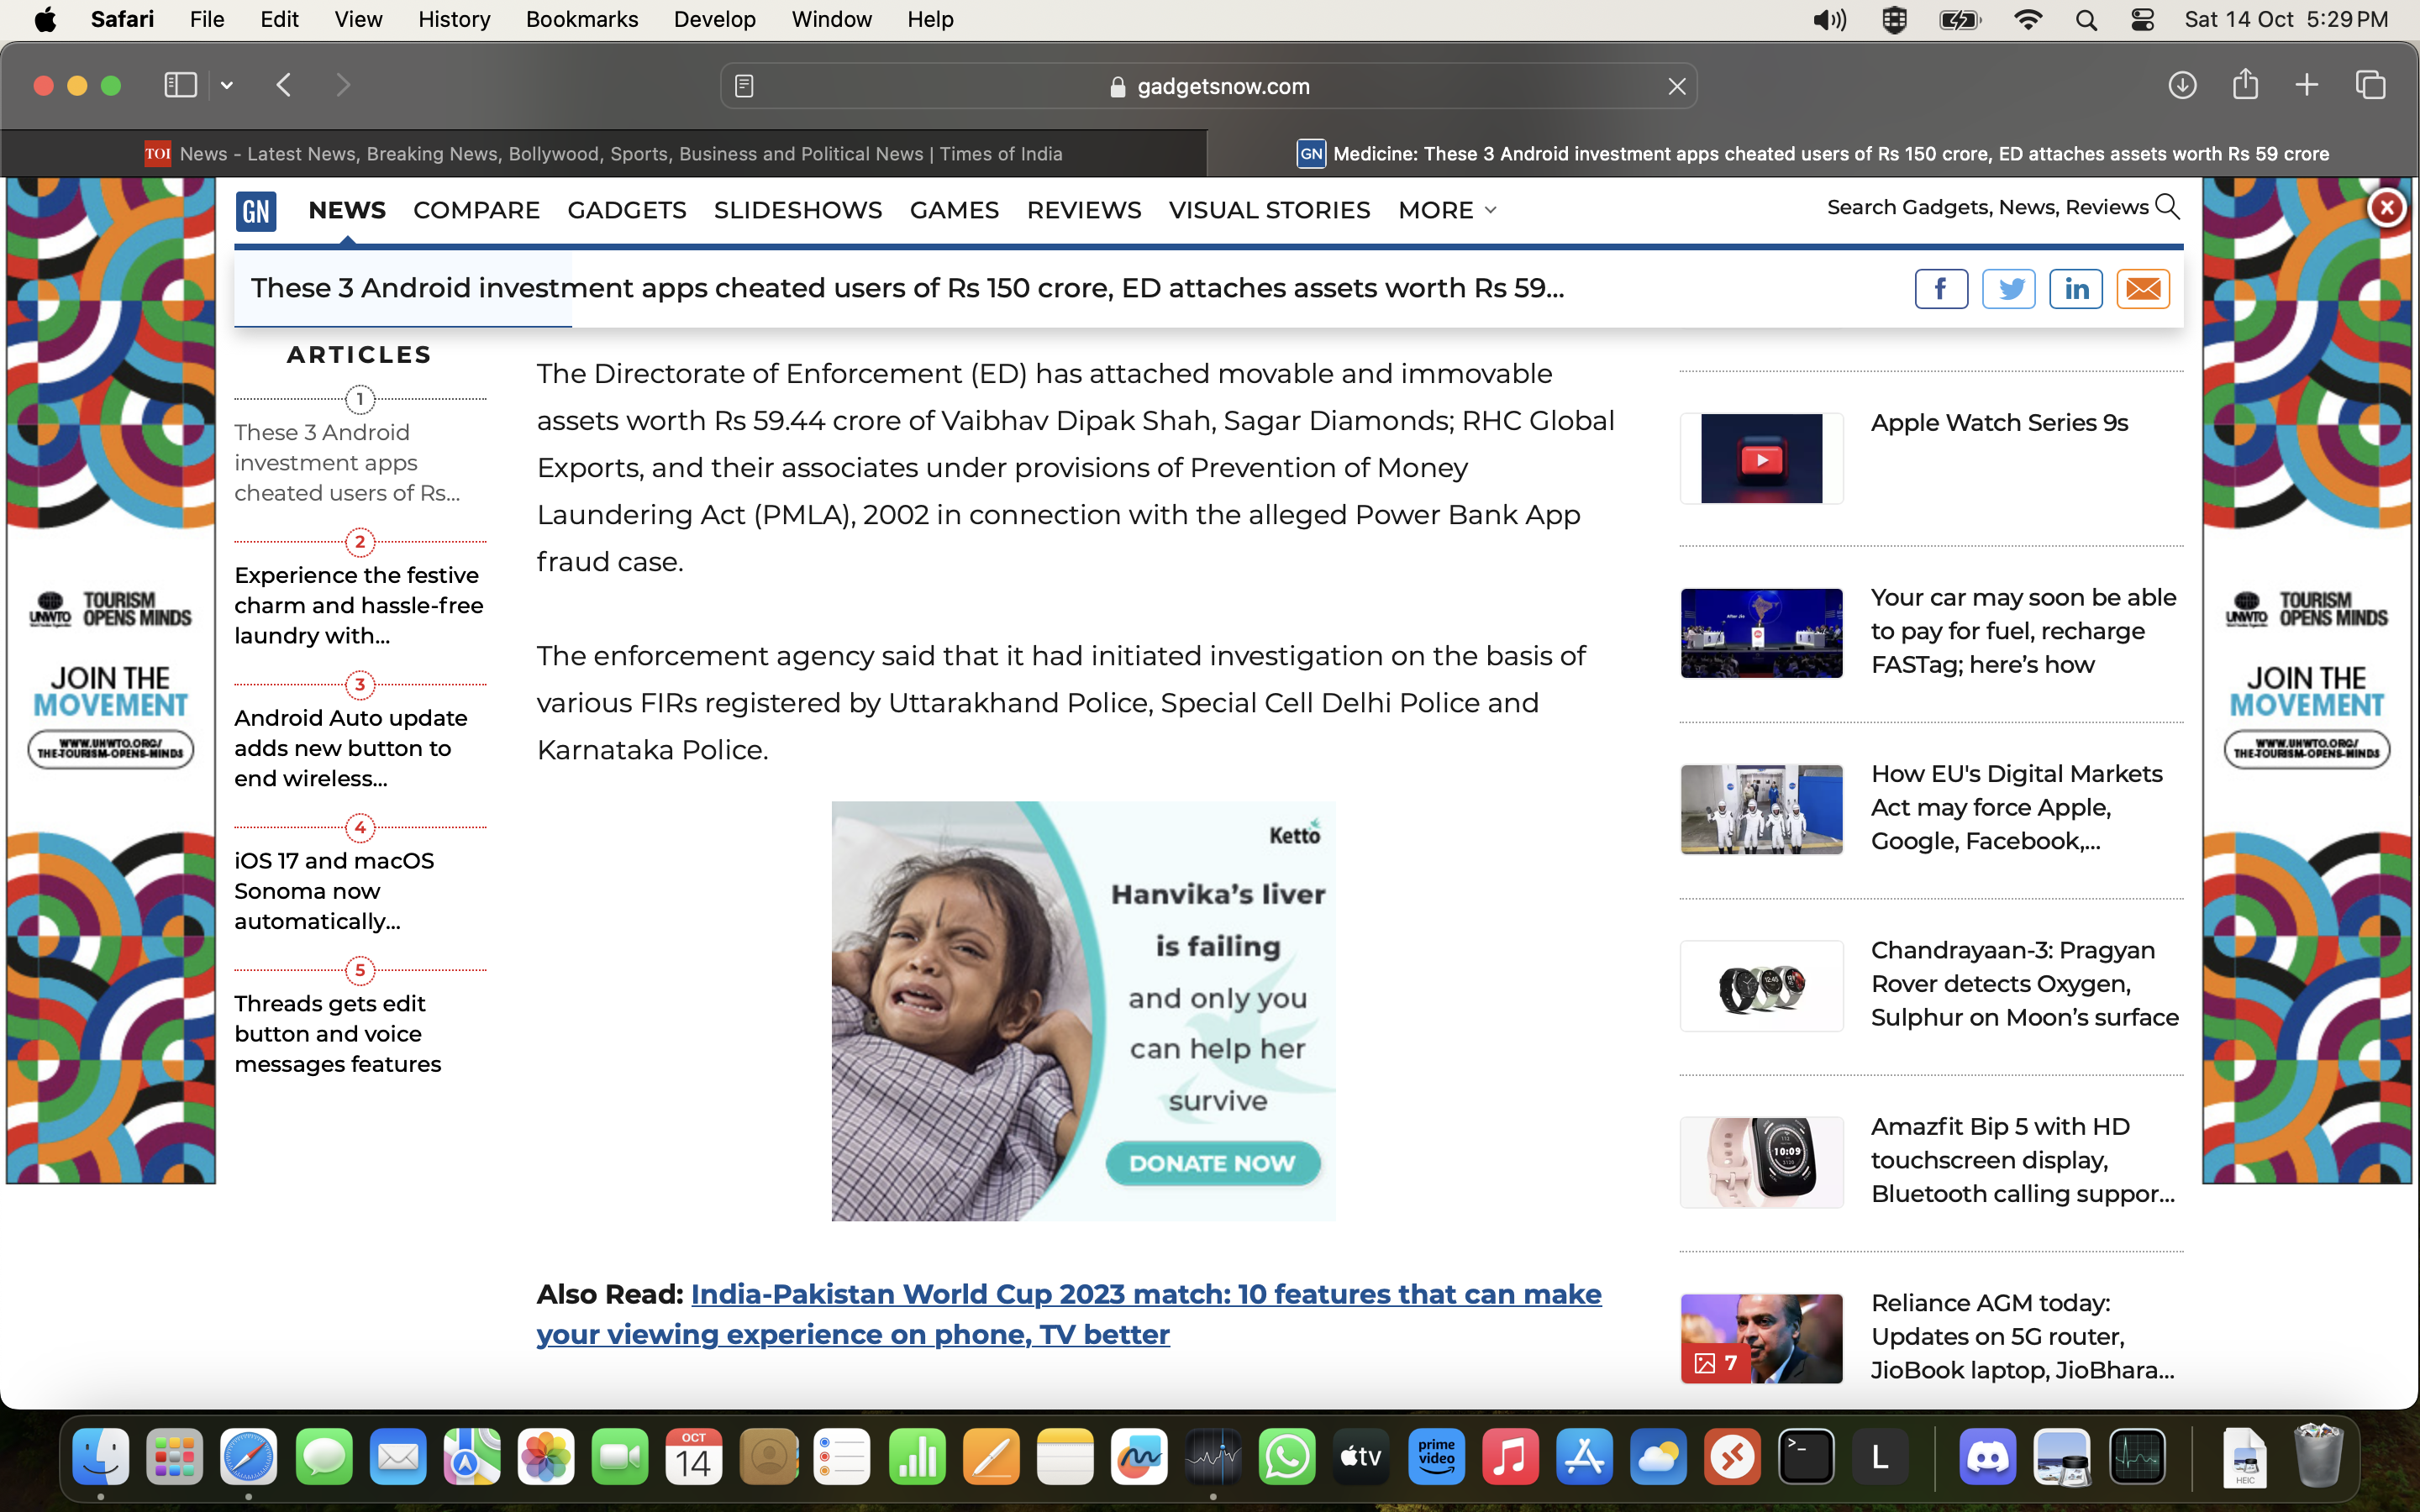Image: (836, 810, 1338, 1244), (2209, 174, 2415, 1200), (17, 174, 216, 1186), (1678, 1097, 1842, 1211), (1681, 1293, 1838, 1388), (1681, 939, 1835, 1035), (1697, 397, 1824, 507), (1690, 591, 1835, 676), (1685, 775, 1835, 850)
Paragraph: (521, 361, 1619, 587), (528, 606, 1608, 775), (514, 1265, 1612, 1367), (230, 261, 1601, 322), (284, 192, 1495, 237), (1859, 921, 2202, 1056), (1862, 570, 2192, 702), (1862, 744, 2185, 867), (1862, 1097, 2188, 1211), (1866, 1279, 2174, 1395), (230, 545, 514, 669), (223, 411, 481, 528), (226, 974, 470, 1087), (226, 690, 493, 786), (233, 847, 450, 953), (1852, 394, 2146, 453), (1824, 185, 2150, 230)
